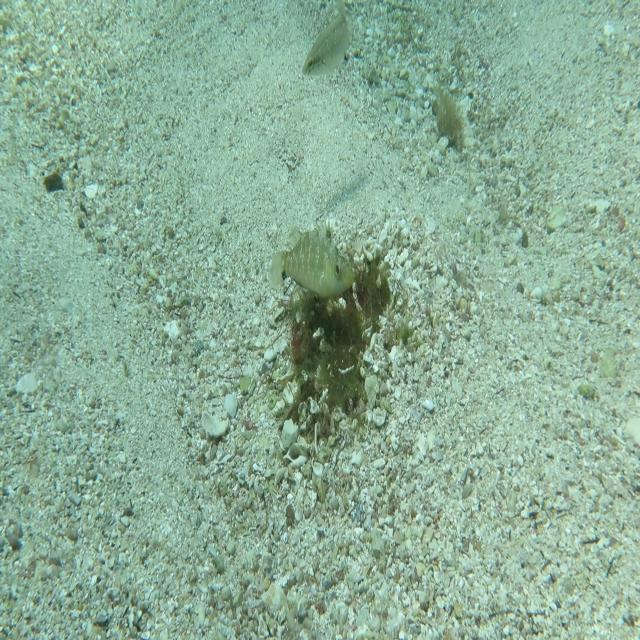FAN: (267, 216, 357, 298)
core_nest: (343, 278, 383, 317)
female: (301, 0, 351, 78)
nest: (279, 235, 408, 447)
vegetation: (432, 87, 466, 158), (44, 170, 64, 193)
